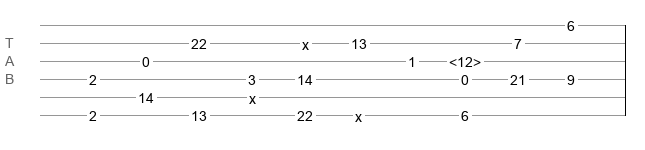0: (142, 54, 150, 64), (461, 72, 469, 82)
1: (408, 54, 416, 64)
13: (191, 108, 207, 118), (351, 36, 367, 46)
14: (138, 90, 154, 100), (297, 72, 313, 82)
2: (89, 72, 97, 82), (89, 108, 97, 118)
21: (510, 72, 526, 82)
22: (191, 36, 207, 46), (297, 108, 313, 118)
3: (248, 72, 256, 82)
6: (461, 108, 469, 118), (567, 18, 575, 28)
7: (514, 36, 522, 46)
9: (567, 72, 575, 82)
harmonic: (449, 54, 481, 64)
x: (249, 91, 256, 99), (302, 37, 309, 45), (355, 109, 362, 117)
